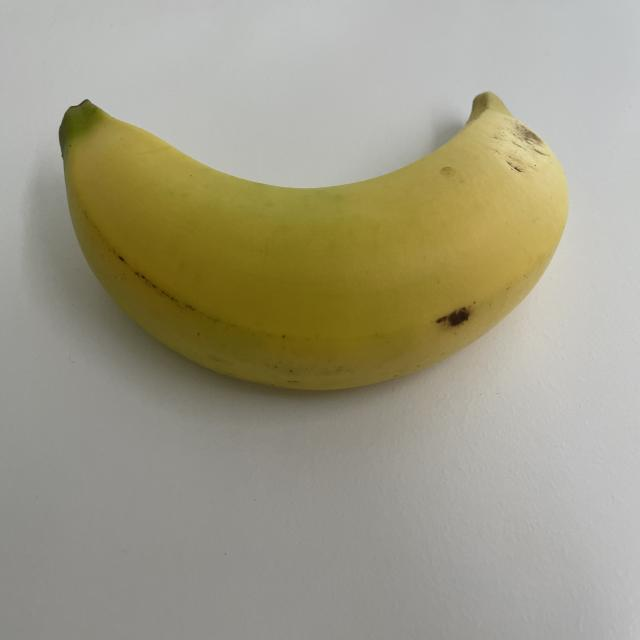Banana: (48, 66, 579, 405)
